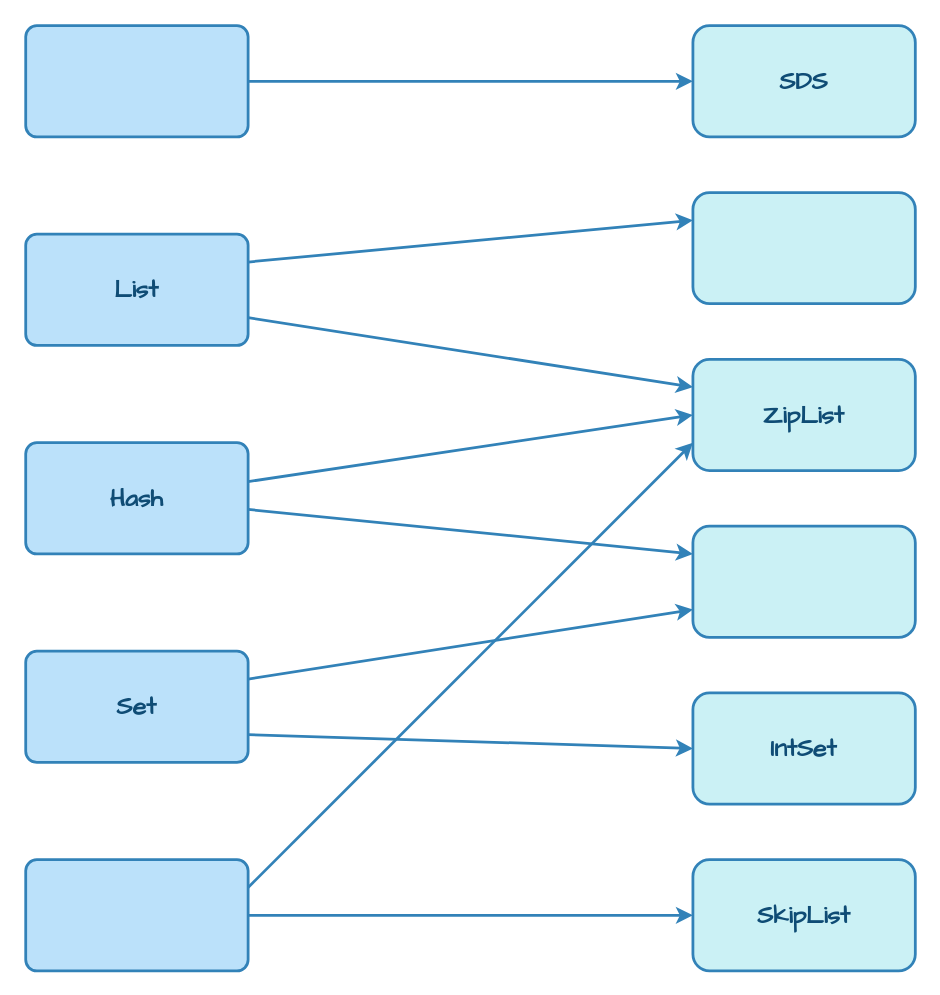
This 940x995 diagram has some shape labels left out. Here are the shapes that lost their labels. From the top down, the centre of each, then its label:
At (136,81): "String".
At (803,247): "LinkedList".
At (803,581): "HashTable".
At (136,915): "Sorted Set".
